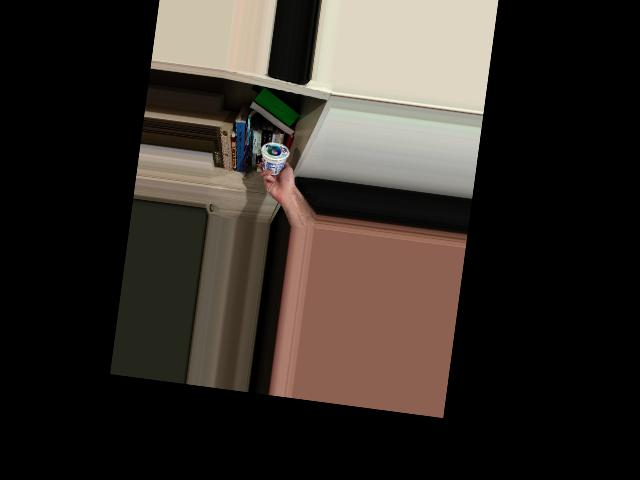cotage: (257, 139, 289, 182)
